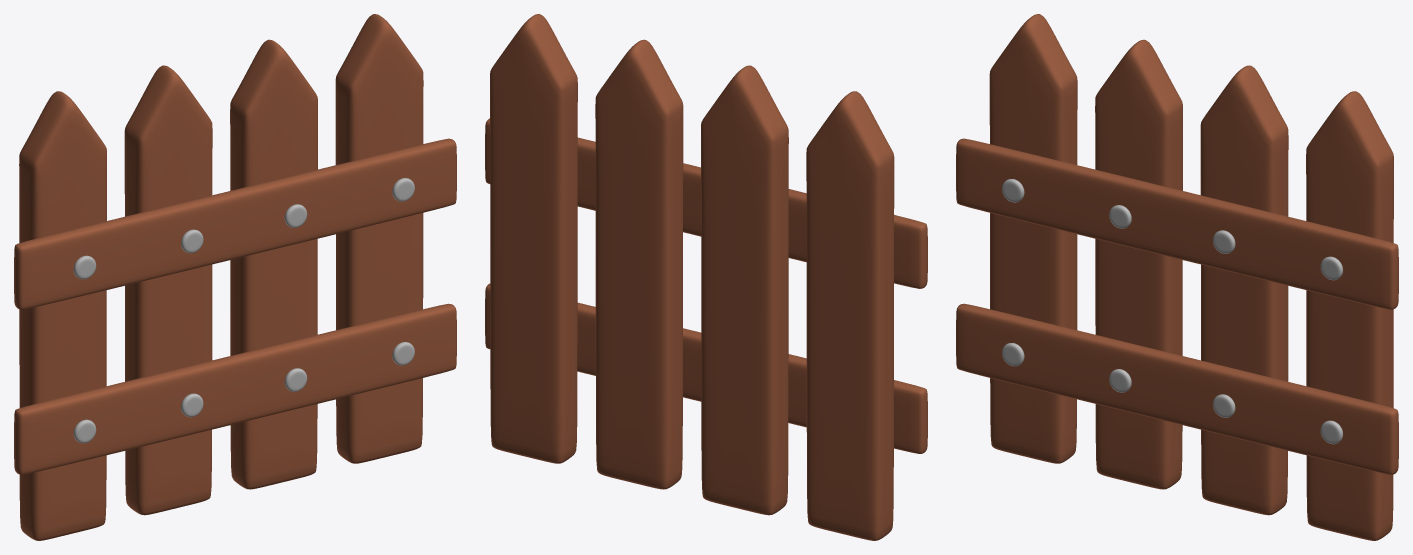
The model's file is Fence_Empty.glb.
3 views of the same model, side by side, from view 1: azimuth 30°, elevation 25°; view 2: azimuth 150°, elevation 25°; view 3: azimuth 330°, elevation 25° (orthographic).
Visible parts, largest first — view 1: Fence_Empty_Post, Fence_Empty_Beam, Fence_Empty_Nails; view 2: Fence_Empty_Post, Fence_Empty_Beam; view 3: Fence_Empty_Post, Fence_Empty_Beam, Fence_Empty_Nails.
Part boxes in pixels (bbox=[...]): Fence_Empty_Post: bbox=[19, 14, 423, 540]; Fence_Empty_Beam: bbox=[14, 138, 456, 474]; Fence_Empty_Nails: bbox=[73, 178, 414, 443]; Fence_Empty_Post: bbox=[490, 14, 894, 540]; Fence_Empty_Beam: bbox=[485, 118, 927, 453]; Fence_Empty_Post: bbox=[989, 14, 1393, 540]; Fence_Empty_Beam: bbox=[956, 138, 1398, 474]; Fence_Empty_Nails: bbox=[1002, 179, 1343, 444].
Bounding box in the file's own units: 3.91 × 3.71 × 0.5033.
